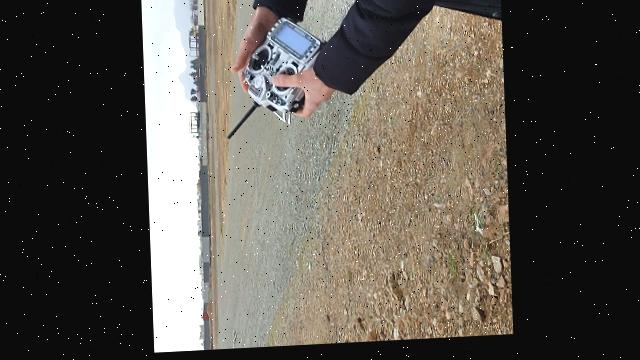drone: (227, 329, 239, 349)
